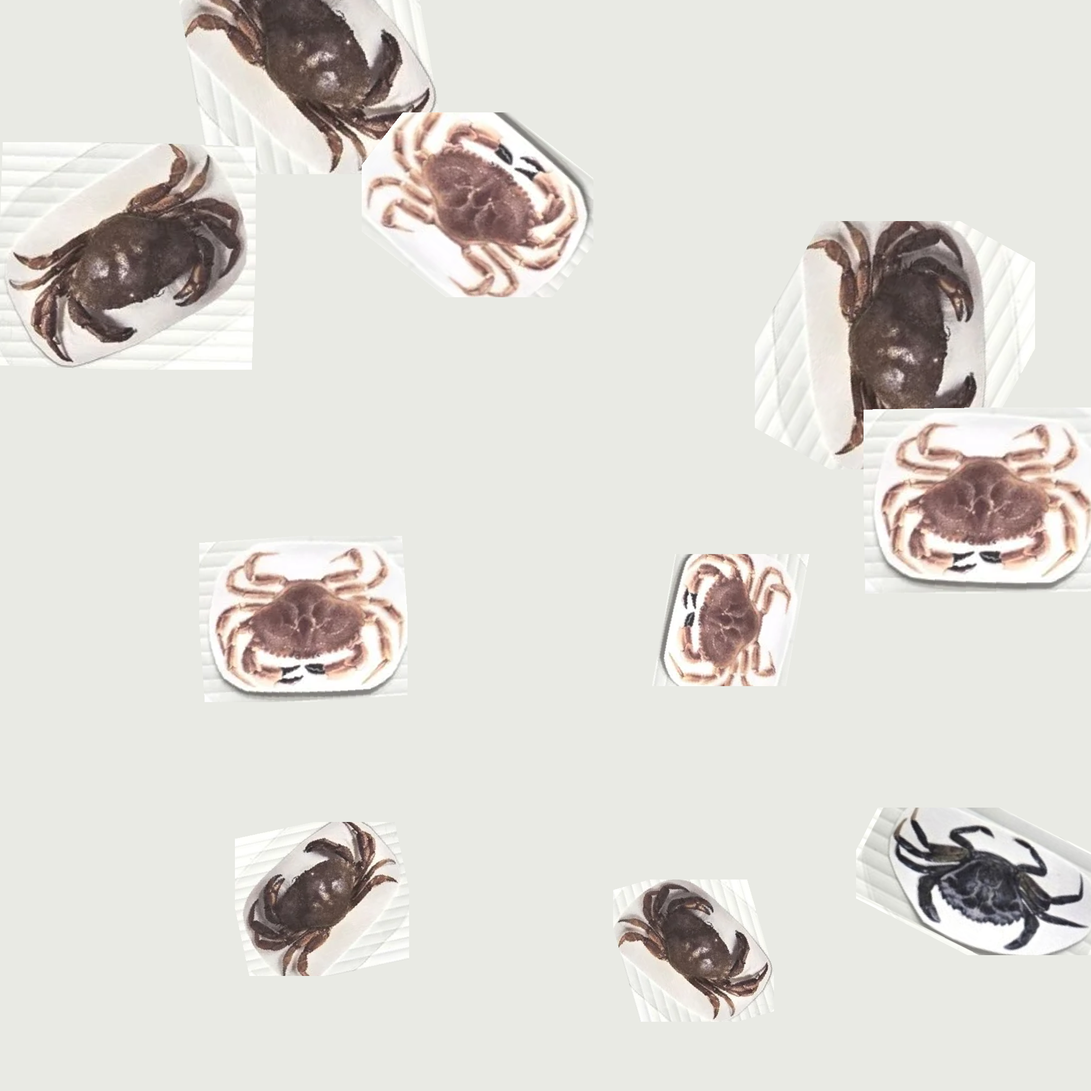evil: (878, 811, 1039, 953)
normal: (802, 223, 996, 451), (365, 90, 574, 299), (14, 157, 232, 342), (204, 536, 398, 697), (199, 24, 441, 142), (892, 422, 1072, 579), (242, 835, 408, 982), (612, 873, 764, 1015), (655, 546, 773, 702)
